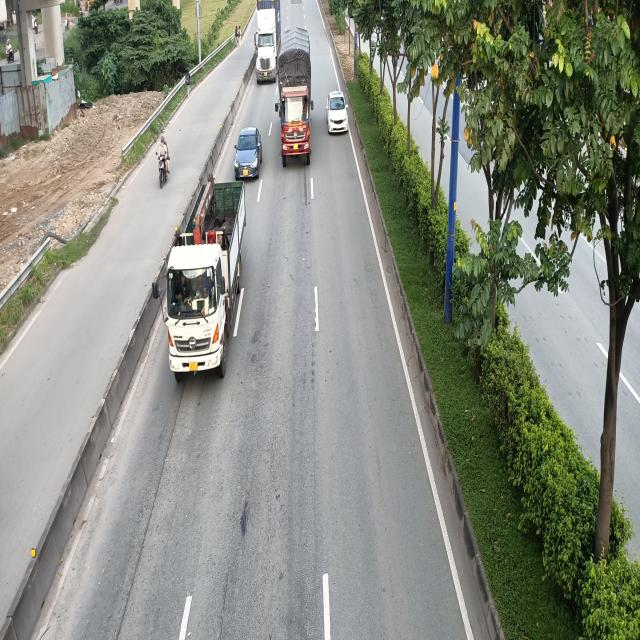car: (234, 126, 261, 180), (325, 89, 349, 133)
container: (254, 0, 281, 86)
truck: (153, 178, 248, 381), (274, 25, 314, 169)
